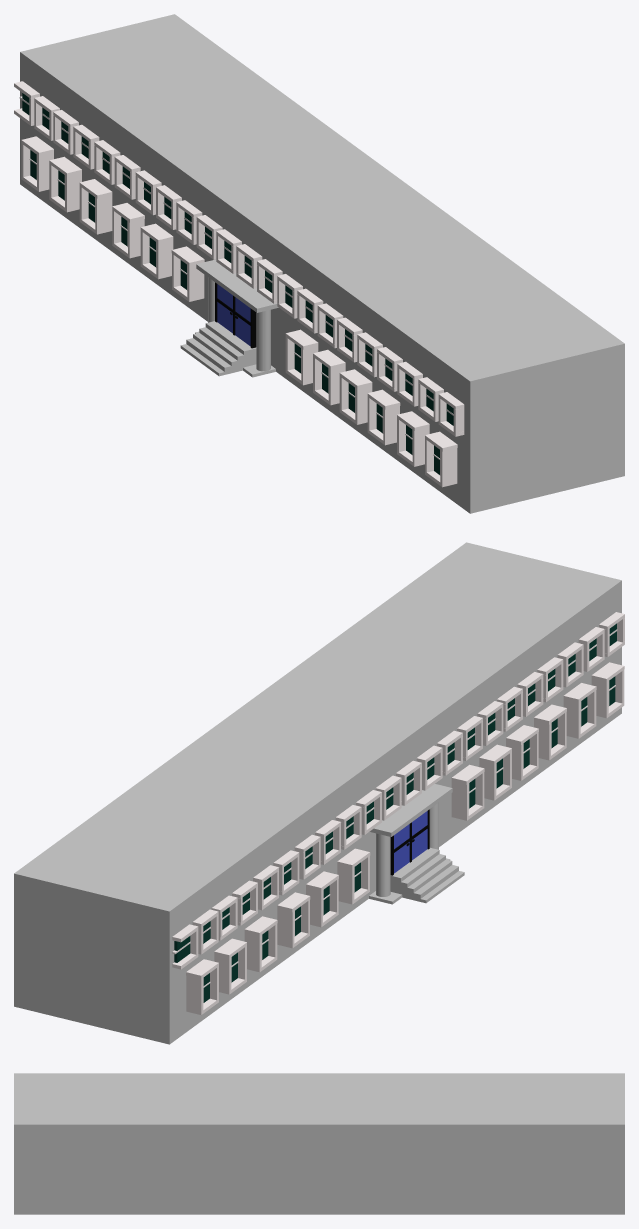
Rendered from buildingbyblmk.obj.
The picture shows the model from 3 angles, top to bottom: view 1: azimuth 30°, elevation 25°; view 2: azimuth 150°, elevation 25°; view 3: azimuth 270°, elevation 25°; orthographic projection. The views are drawn at different scales.
Visible parts, largest first — view 1: Cube.000_Cube.007, Cube.134_Cube.147, Cylinder.001; view 2: Cube.000_Cube.007, Cube.134_Cube.147, Cylinder; view 3: Cube.000_Cube.007.
Part boxes in pixels (x1=…): Cube.000_Cube.007: x1=20, y1=14, x2=624, y2=513; Cube.134_Cube.147: x1=196, y1=259, x2=278, y2=312; Cylinder.001: x1=256, y1=309, x2=270, y2=371; Cube.000_Cube.007: x1=14, y1=542, x2=621, y2=1044; Cube.134_Cube.147: x1=369, y1=784, x2=452, y2=836; Cylinder: x1=376, y1=833, x2=390, y2=896; Cube.000_Cube.007: x1=14, y1=1073, x2=624, y2=1214.
Size of the model in its own units: 12.4 by 7.77 by 47.84.
